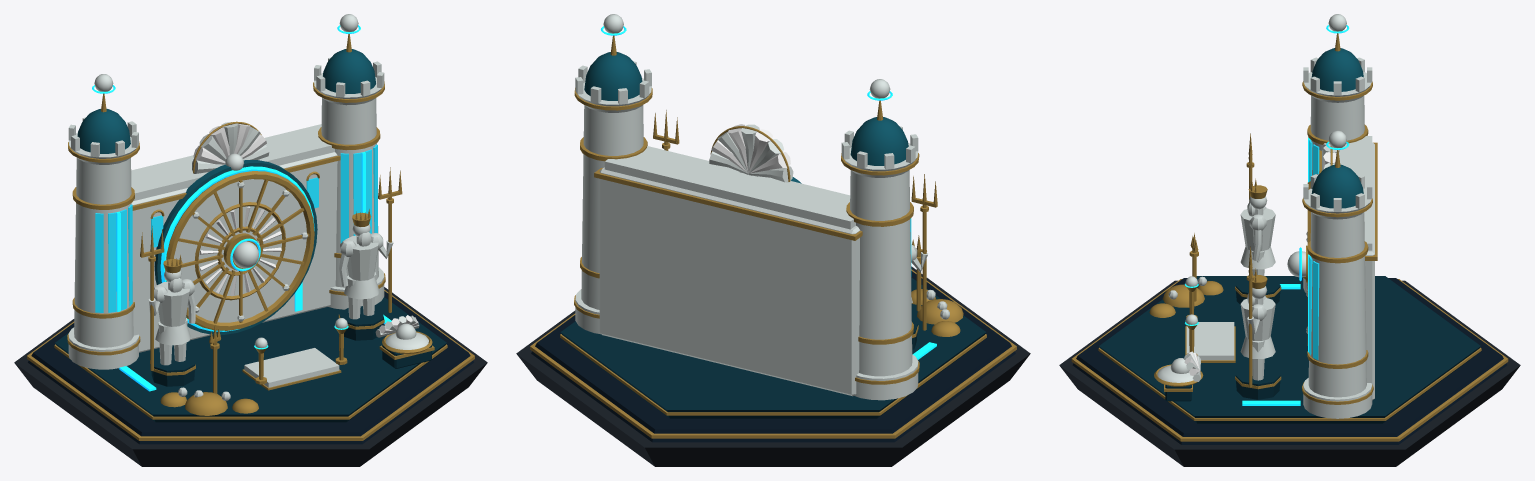
The model's file is poseidon_structure_tidevault.glb.
The picture shows the model from 3 angles, left to right: view 1: azimuth 30°, elevation 25°; view 2: azimuth 150°, elevation 25°; view 3: azimuth 270°, elevation 25°; orthographic projection. The views are drawn at different scales.
Visible parts, largest first — view 1: poseidon_structure_tidevault; view 2: poseidon_structure_tidevault; view 3: poseidon_structure_tidevault.
Boxes of the visible parts, x1,y1,x2,y2 form: poseidon_structure_tidevault: [14, 14, 487, 466]; poseidon_structure_tidevault: [516, 14, 1030, 466]; poseidon_structure_tidevault: [1059, 14, 1520, 466].
Size of the model in its own units: 1.51 by 1.31 by 1.74.
1 material, 1 textured.
